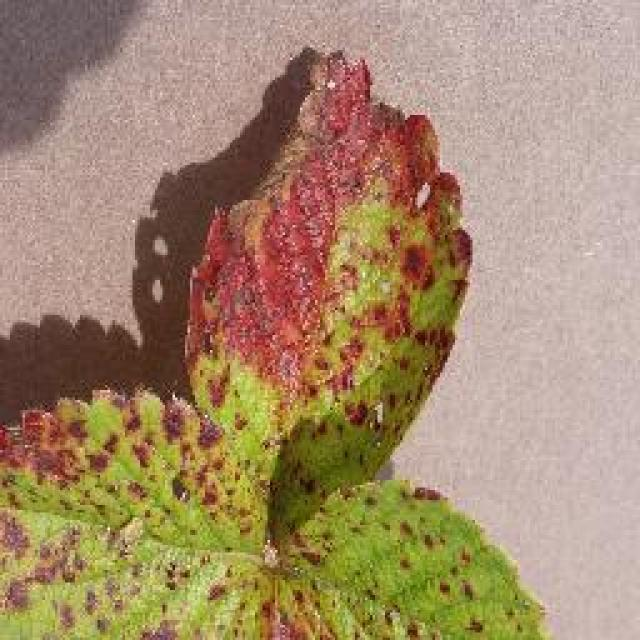Strawberry leaf scorch: (146, 68, 462, 555)
